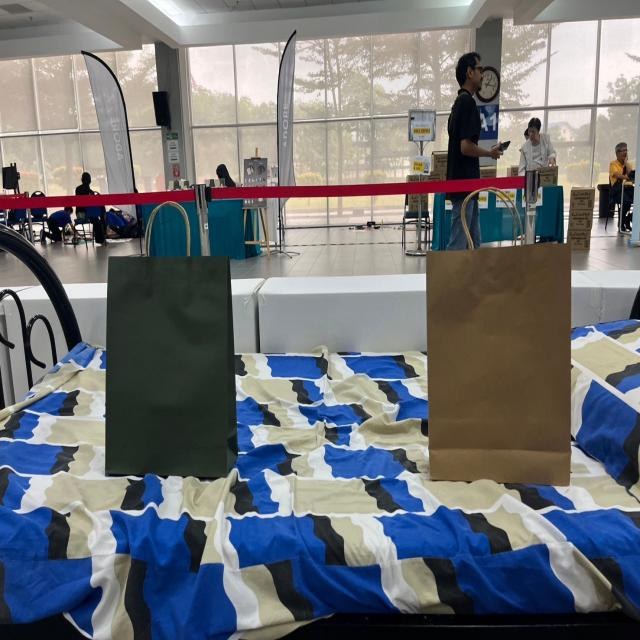bag: (431, 186, 567, 484), (113, 197, 230, 476)
